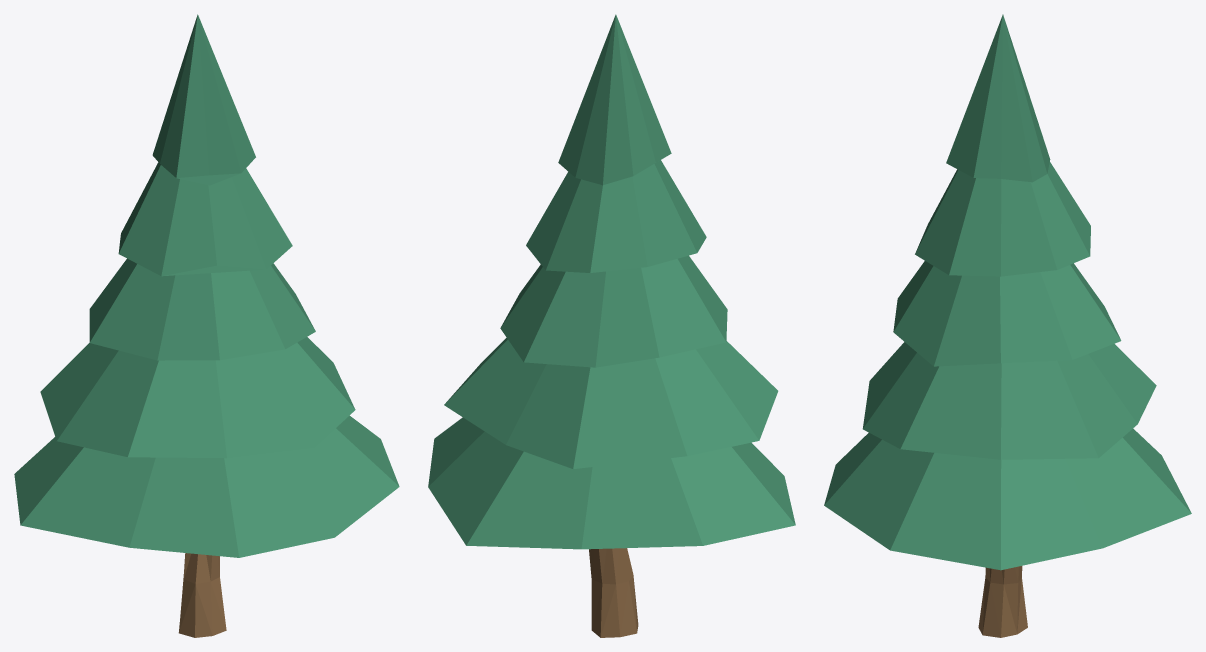
The model's file is arbre_02.glb.
The picture shows the model from 3 angles, left to right: view 1: azimuth 30°, elevation 25°; view 2: azimuth 150°, elevation 25°; view 3: azimuth 270°, elevation 25°; orthographic projection.
Parts seen in each view (by area): view 1: arbre_02; view 2: arbre_02; view 3: arbre_02.
Boxes of the visible parts, <box> form: arbre_02: <box>14,14,399,637</box>; arbre_02: <box>428,14,795,637</box>; arbre_02: <box>824,14,1191,637</box>.
Size of the model in its own units: 4.3 by 7 by 3.81.
